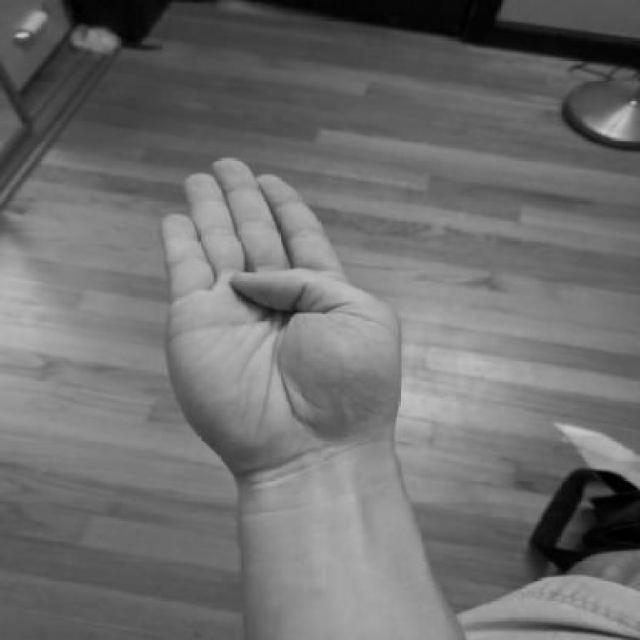B: (153, 150, 416, 498)
